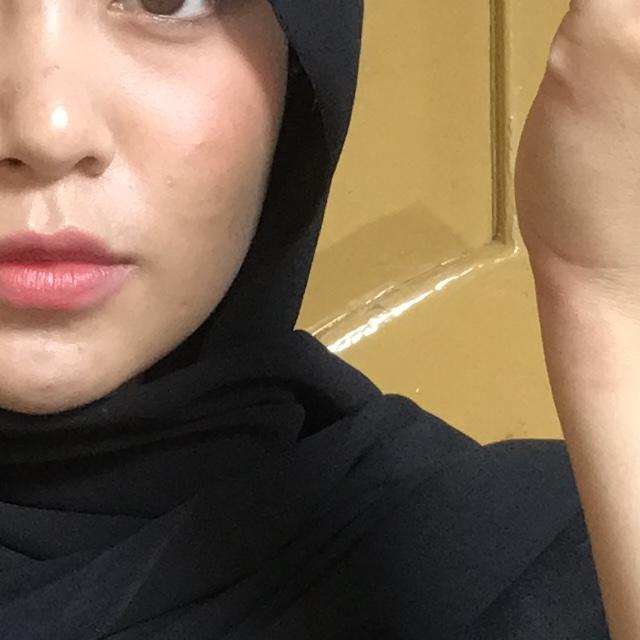kapan: (380, 0, 640, 516)
